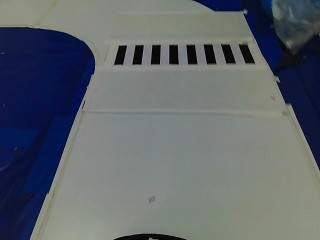crosswalk: (106, 40, 263, 67)
